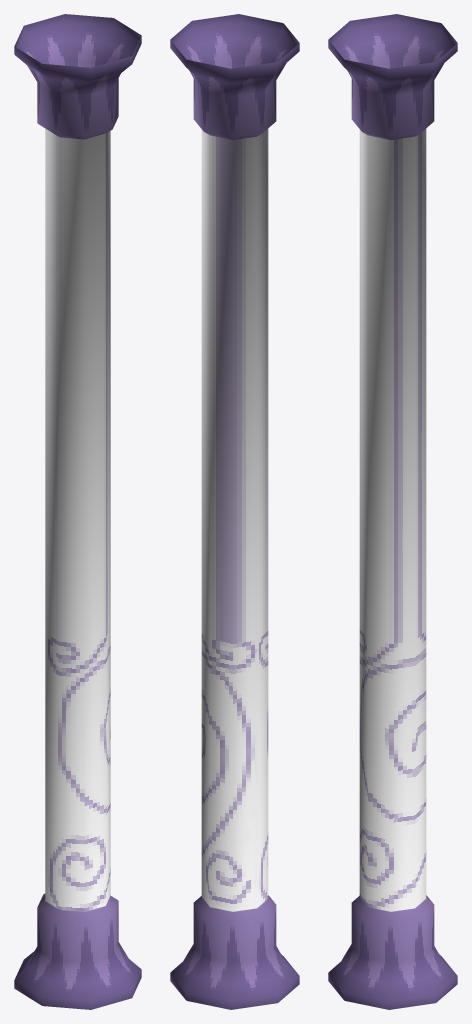
File: Column.fbx
3 views of the same model, side by side, from view 1: azimuth 30°, elevation 25°; view 2: azimuth 150°, elevation 25°; view 3: azimuth 330°, elevation 25° (orthographic).
Visible parts, largest first — view 1: Ballroom.001; view 2: Ballroom.001; view 3: Ballroom.001.
Boxes of the visible parts, box(x1,y1,x2,y2) form: Ballroom.001: box(14, 14, 141, 1009); Ballroom.001: box(170, 14, 299, 1009); Ballroom.001: box(328, 14, 457, 1009).
Bounding box in the file's own units: 94.86 × 800 × 94.86.
1 material, 1 textured.
